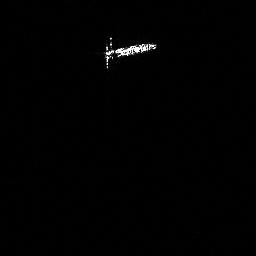ship: (99, 32, 159, 72)
